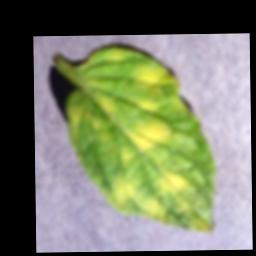Leaf_Mold: (110, 169, 211, 233), (128, 59, 192, 116), (118, 115, 183, 167), (65, 103, 90, 146), (103, 45, 131, 64), (97, 96, 117, 119)
